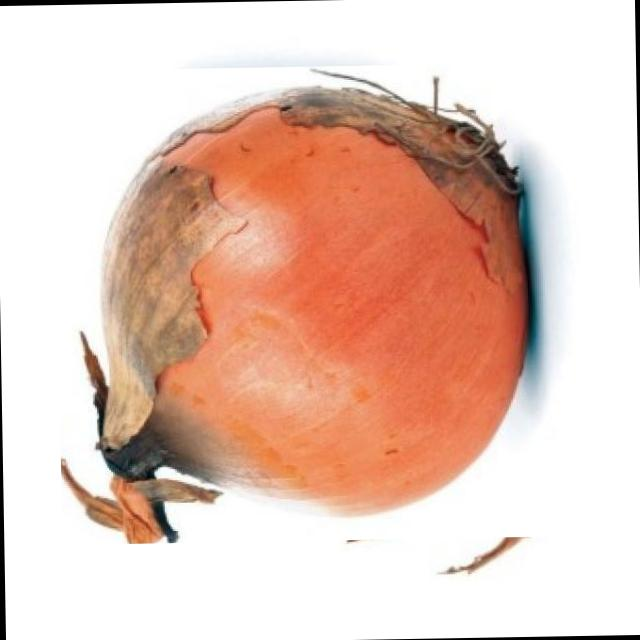Onion: (65, 49, 573, 557)
